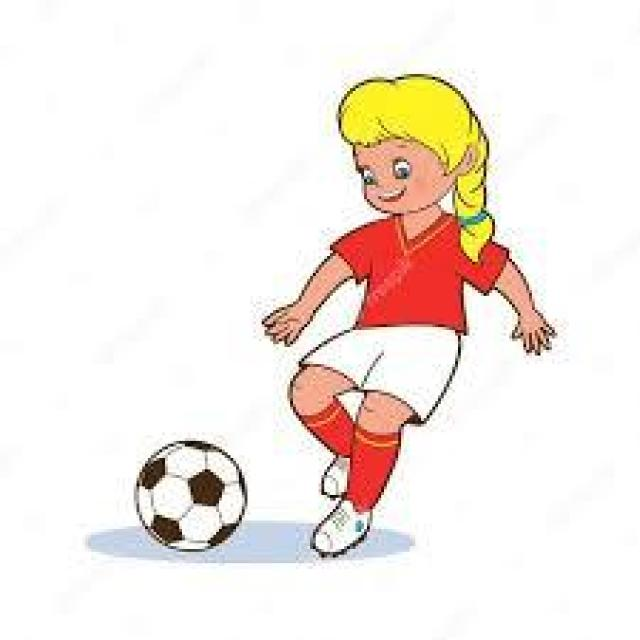Soccer Ball: (134, 441, 253, 552)
